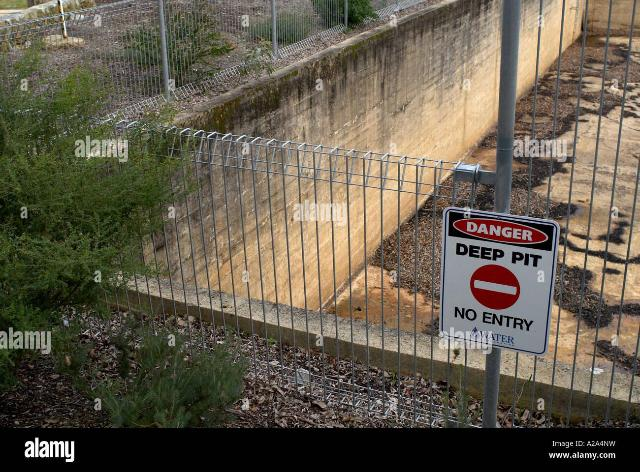B2: (470, 266, 522, 311)
